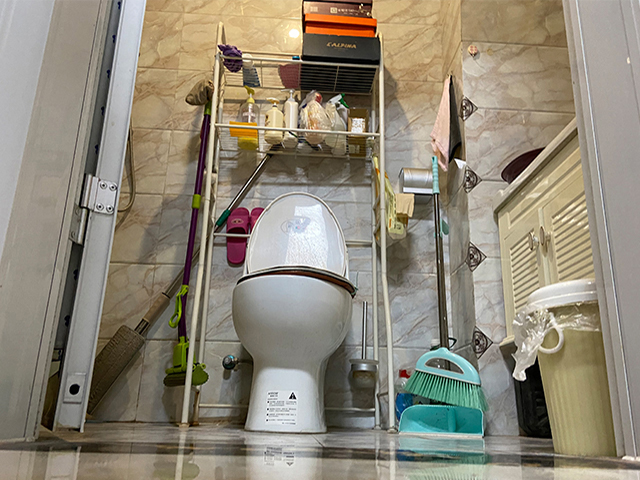closestool: (229, 190, 359, 435)
trashcan: (517, 279, 618, 459)
